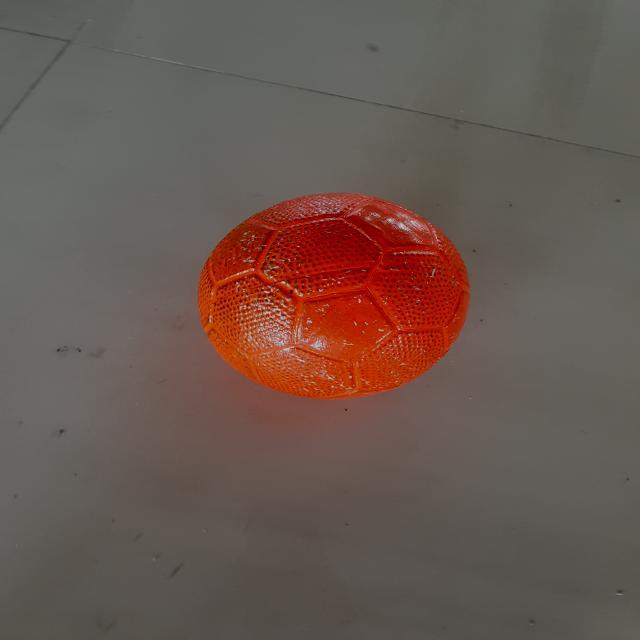bola: (166, 158, 492, 411)
